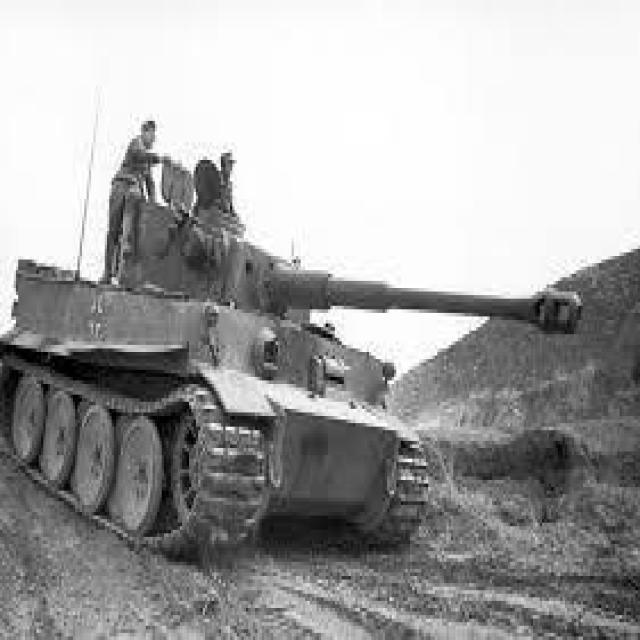MIL_MBT: (1, 98, 520, 567), (9, 55, 66, 80)
